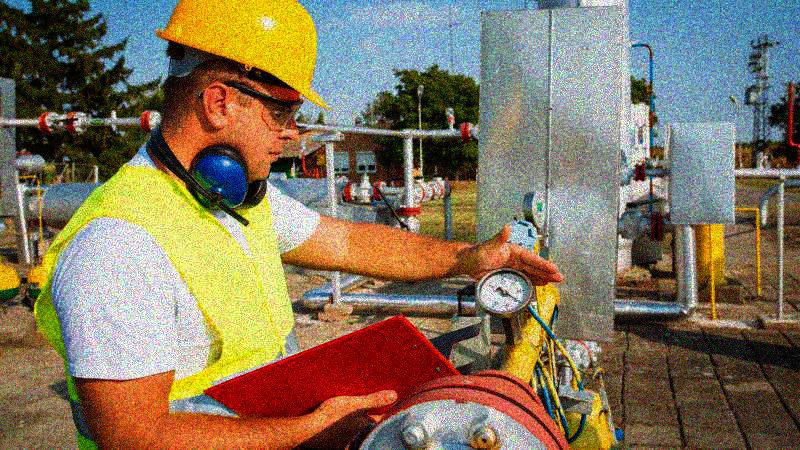helmet: (154, 1, 332, 178)
